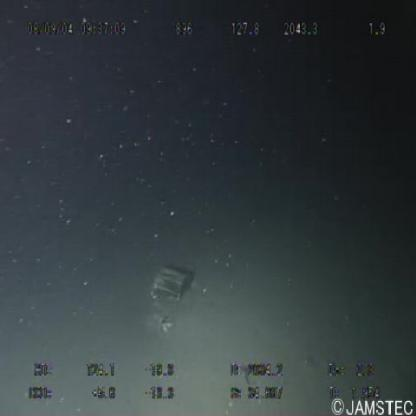Rác: (154, 269, 190, 298)
